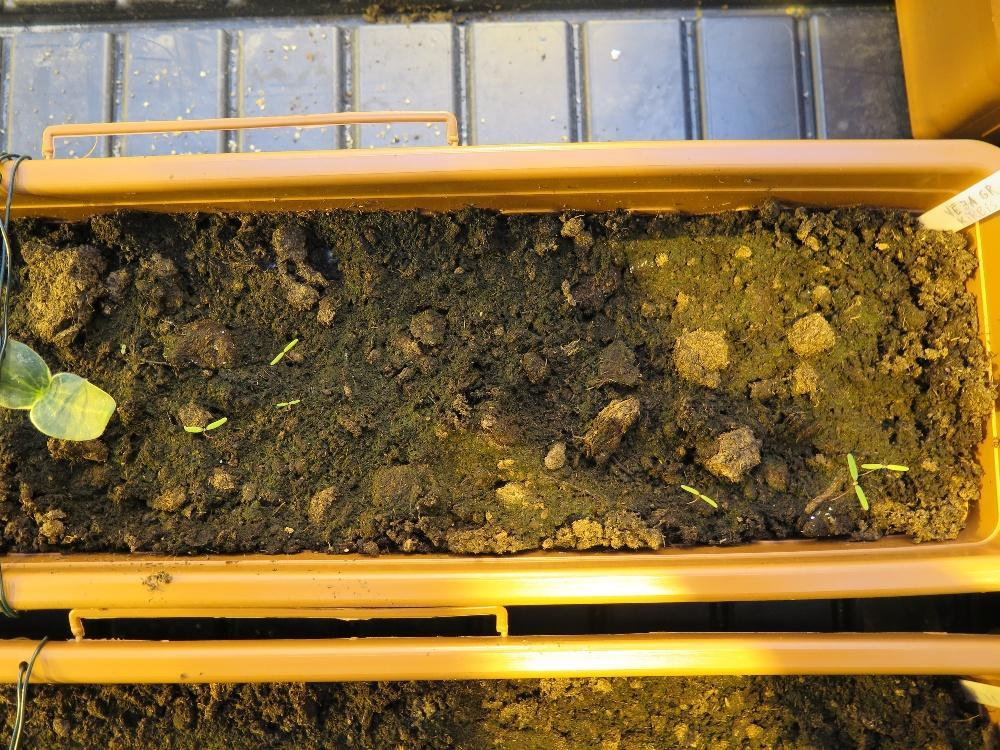weed: (678, 482, 718, 508), (267, 336, 298, 365), (181, 414, 227, 433), (859, 461, 910, 472), (274, 397, 301, 408)
